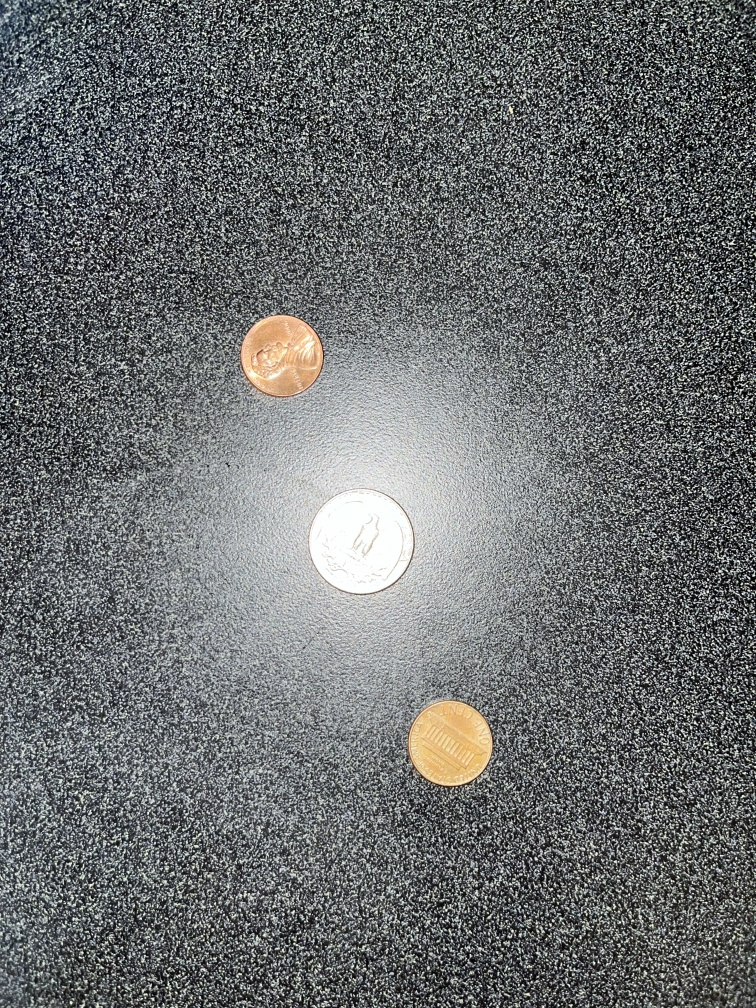penny: (232, 309, 330, 406), (401, 695, 498, 791)
quarter: (305, 482, 418, 595)
